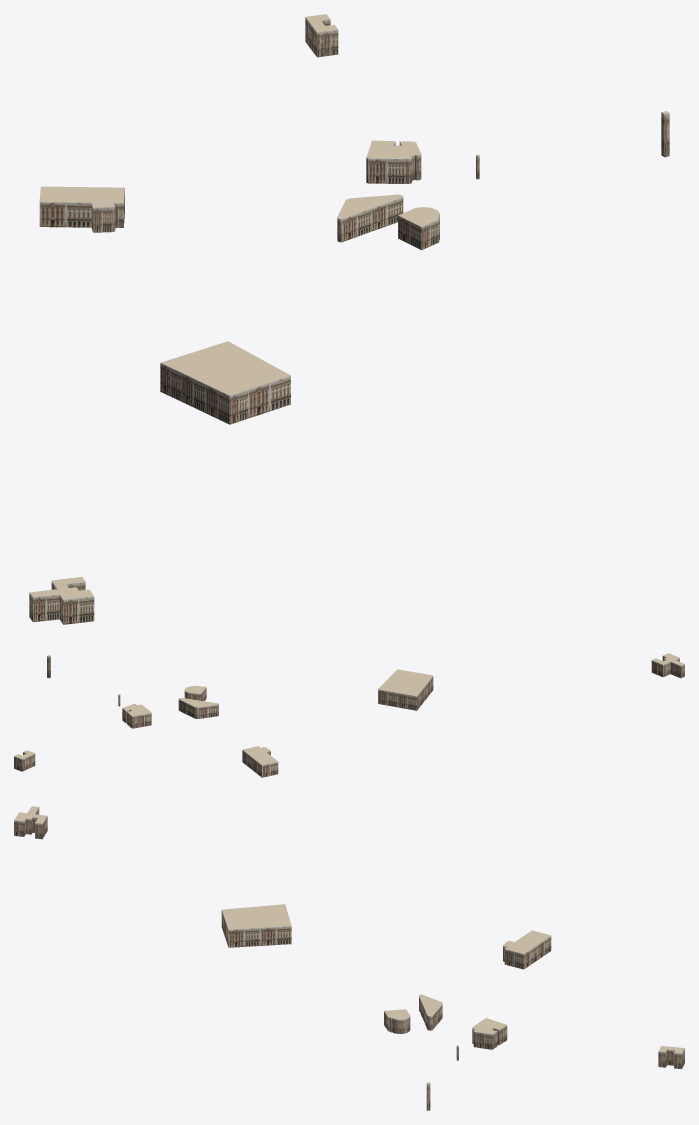
The model's file is recife_predios_monumentais_marco_zero.glb.
3 views of the same model, one above another, from view 1: azimuth 30°, elevation 25°; view 2: azimuth 150°, elevation 25°; view 3: azimuth 270°, elevation 25° (orthographic). The views are drawn at different scales.
Parts seen in each view (by area): view 1: recife_predios_monumentais_marco_zero; view 2: recife_predios_monumentais_marco_zero; view 3: recife_predios_monumentais_marco_zero.
Part boxes in pixels (bbox=[...]): recife_predios_monumentais_marco_zero: bbox=[29, 14, 669, 624]; recife_predios_monumentais_marco_zero: bbox=[14, 653, 684, 777]; recife_predios_monumentais_marco_zero: bbox=[14, 806, 684, 1110].
Bounding box in the file's own units: 742 × 32 × 728.
Materials: 1 (1 with a texture image).
